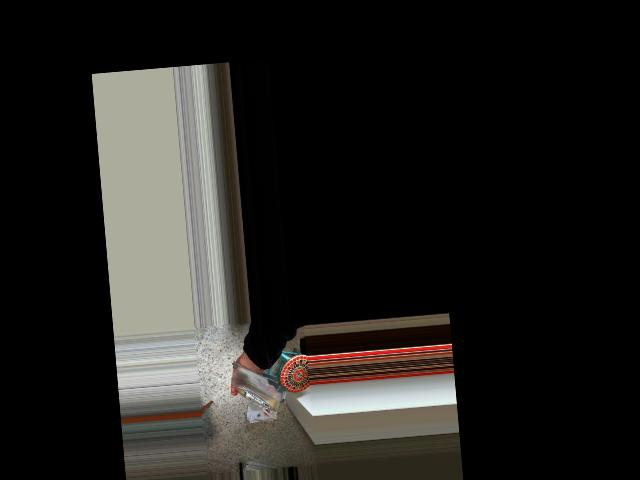cheese: (224, 352, 306, 430)
